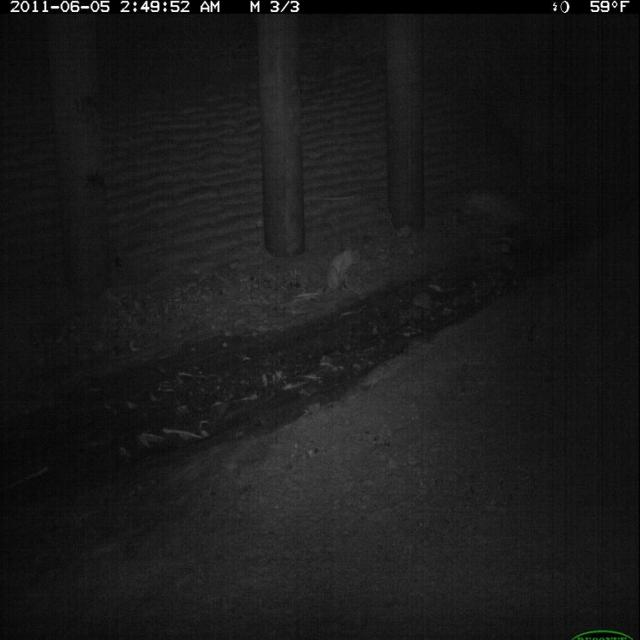bobcat: (321, 246, 363, 300)
